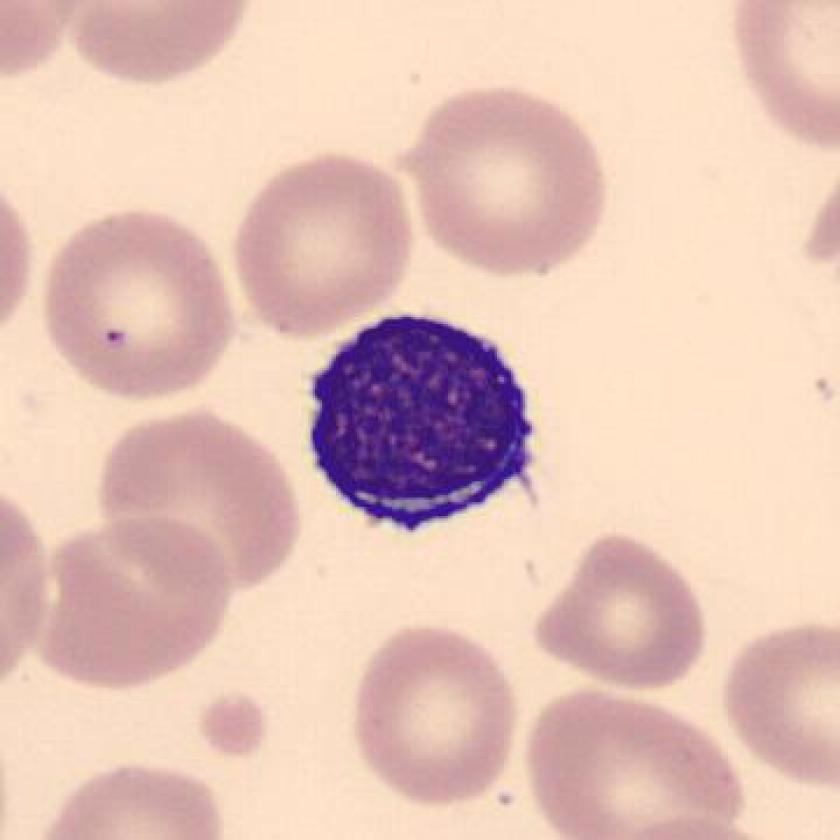lymphocyte: (290, 295, 554, 545)
